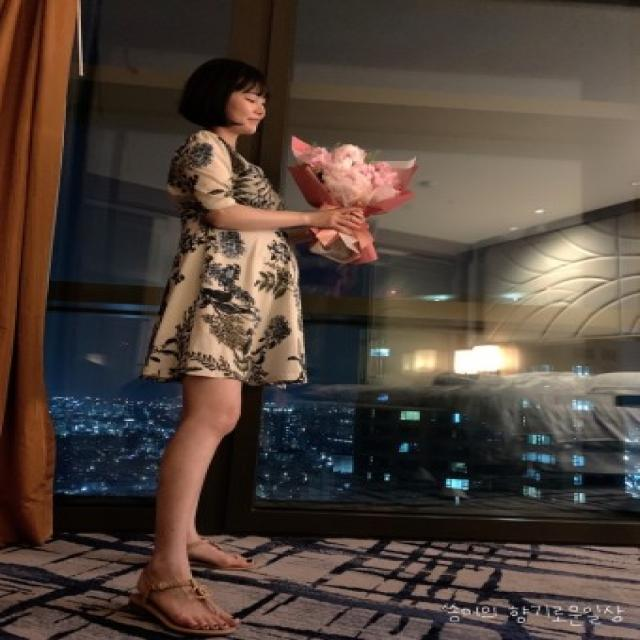no-boots: (97, 563, 267, 640), (164, 518, 275, 580)
